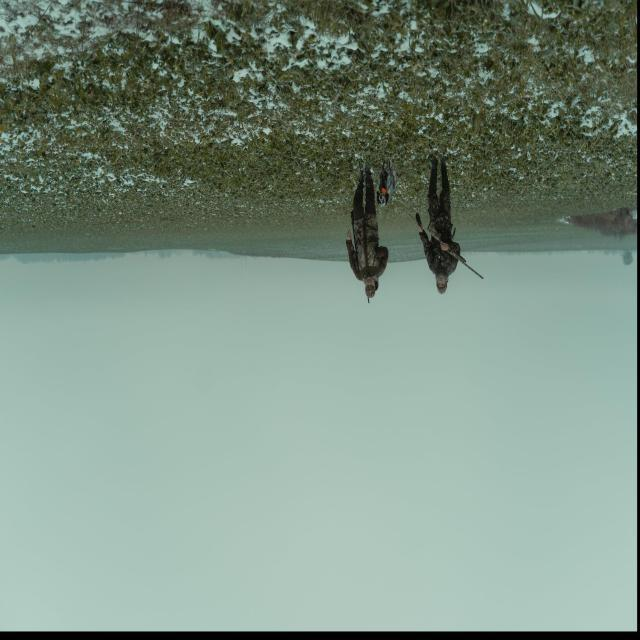weapon: (427, 220, 484, 280)
